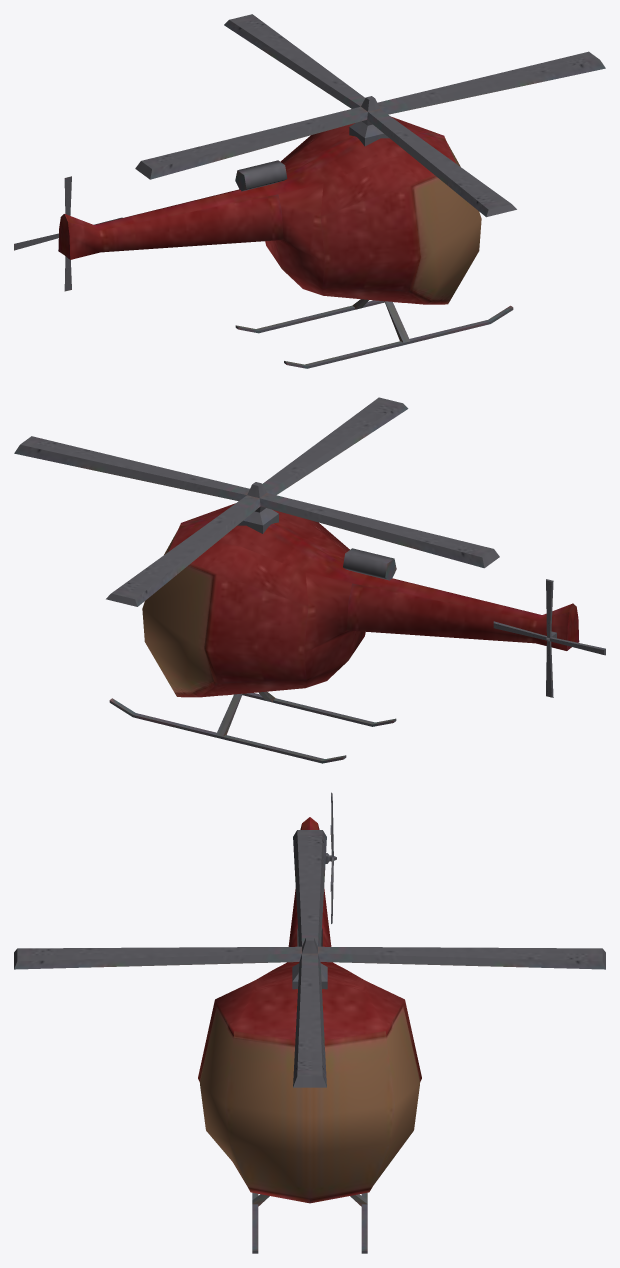
The model's file is entity15108.gltf.
The picture shows the model from 3 angles, top to bottom: view 1: azimuth 30°, elevation 25°; view 2: azimuth 150°, elevation 25°; view 3: azimuth 270°, elevation 25°; orthographic projection. The views are drawn at different scales.
Visible parts, largest first — view 1: node_Exhibit_Chopper_Art (1), node_Exhibit_Chopper_FrontAxis, node_Exhibit_Chopper_RearAxis; view 2: node_Exhibit_Chopper_Art (1), node_Exhibit_Chopper_FrontAxis, node_Exhibit_Chopper_RearAxis; view 3: node_Exhibit_Chopper_Art (1), node_Exhibit_Chopper_FrontAxis.
Boxes of the visible parts, bbox=[...] form: node_Exhibit_Chopper_Art (1): bbox=[58, 117, 513, 368]; node_Exhibit_Chopper_FrontAxis: bbox=[135, 14, 605, 217]; node_Exhibit_Chopper_RearAxis: bbox=[14, 176, 122, 291]; node_Exhibit_Chopper_Art (1): bbox=[109, 503, 579, 763]; node_Exhibit_Chopper_FrontAxis: bbox=[14, 397, 499, 606]; node_Exhibit_Chopper_RearAxis: bbox=[493, 579, 605, 697]; node_Exhibit_Chopper_Art (1): bbox=[198, 817, 421, 1253]; node_Exhibit_Chopper_FrontAxis: bbox=[14, 830, 605, 1087].
Size of what is drawn, in the model's own units: 8.45 by 3.24 by 6.68.
1 material, 1 textured.
